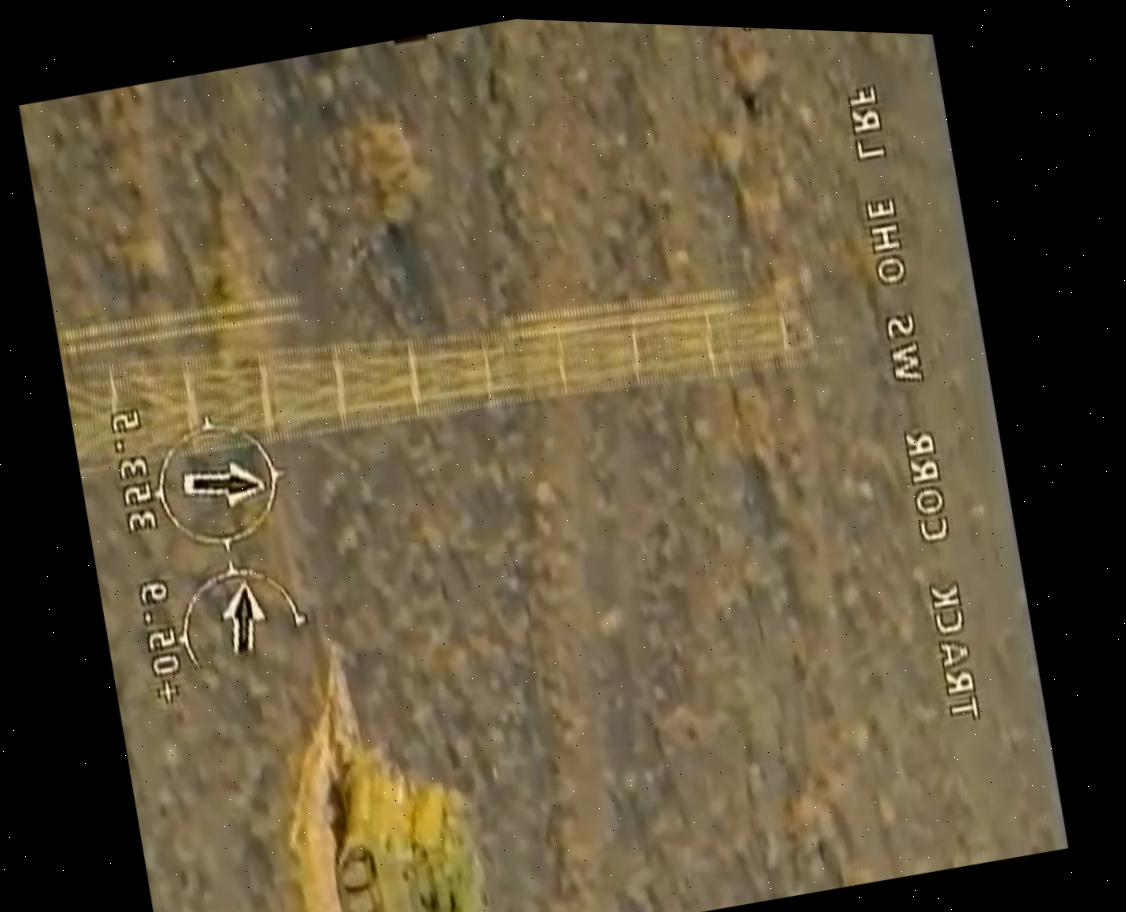armored_car: (302, 724, 513, 912)
